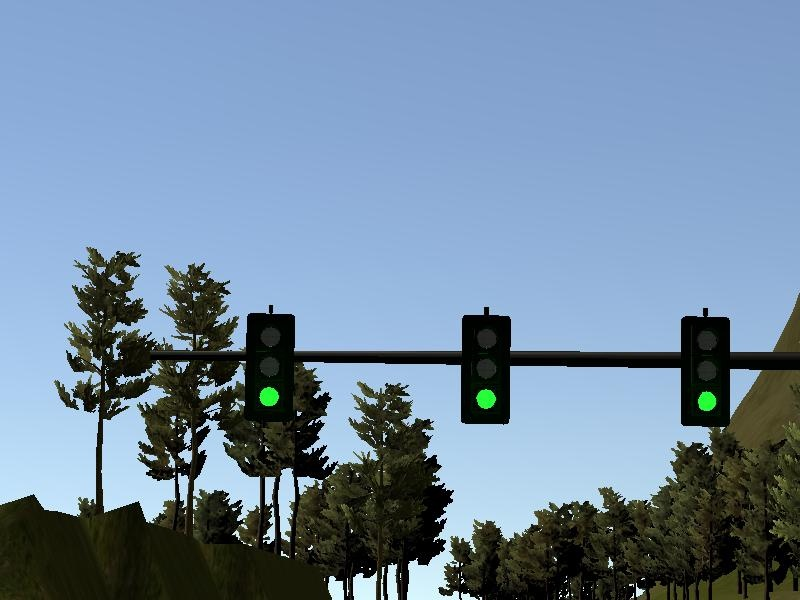GREEN: (681, 317, 731, 427), (244, 312, 294, 421), (462, 316, 510, 424)
